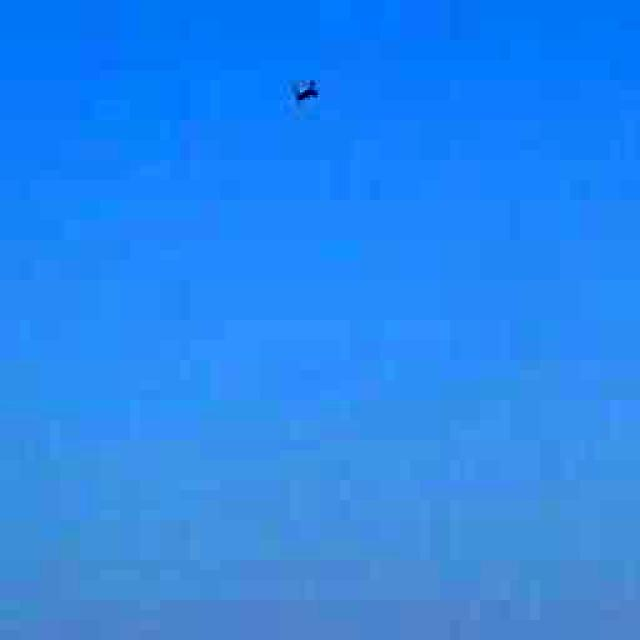bird: (241, 44, 366, 134)
